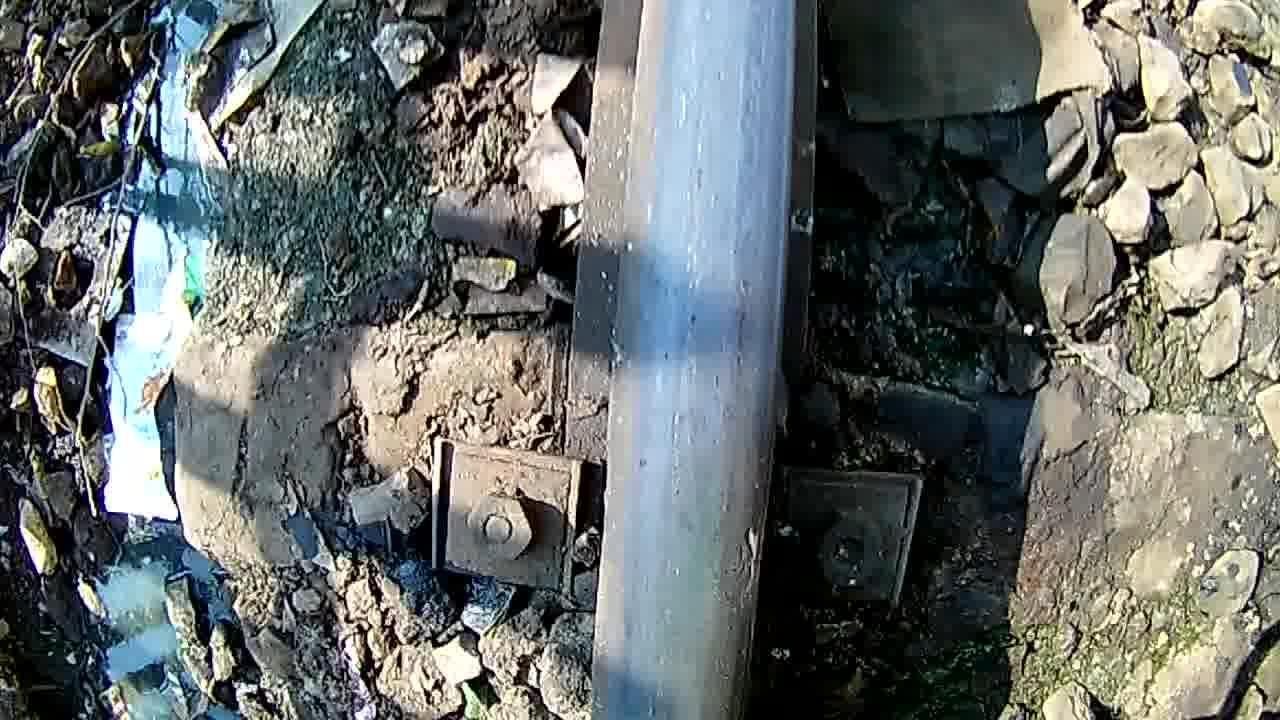crack: (596, 0, 800, 720)
